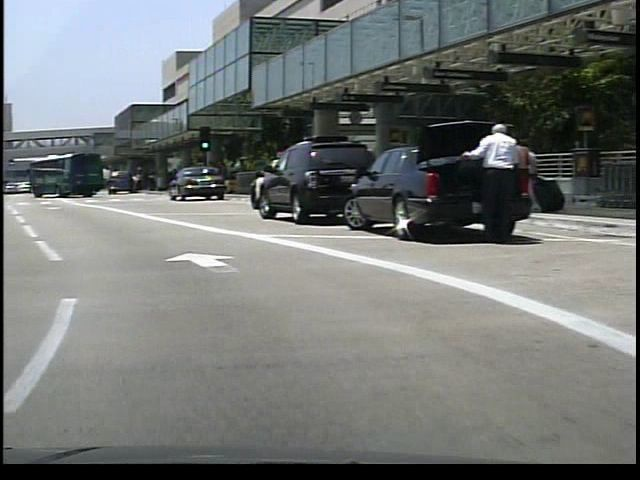person: (453, 115, 516, 245), (526, 135, 527, 216)
